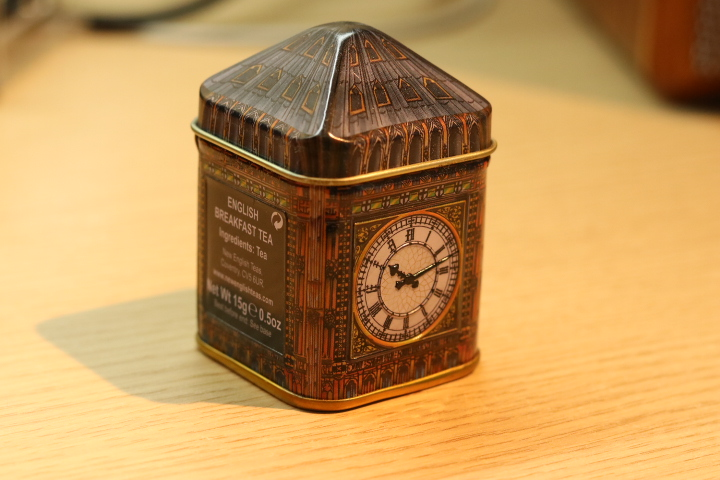Big Ben: (175, 15, 522, 425)
